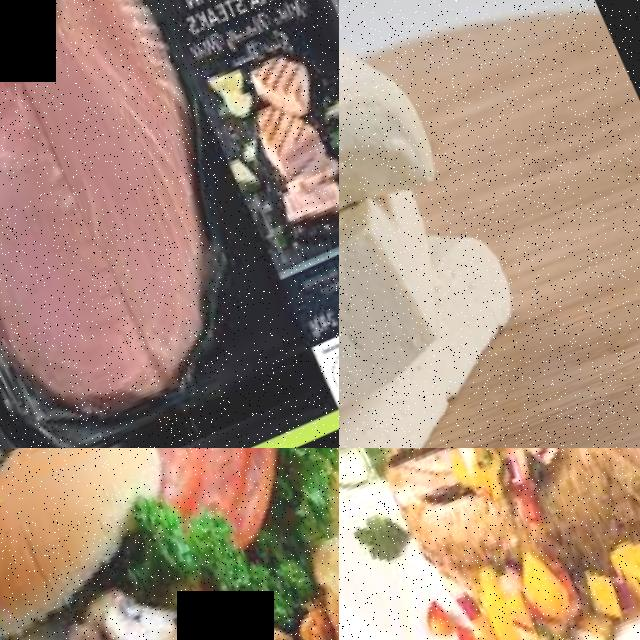tofu: (339, 181, 474, 448), (339, 0, 447, 306)
tuna: (0, 0, 242, 283), (0, 66, 155, 440)
